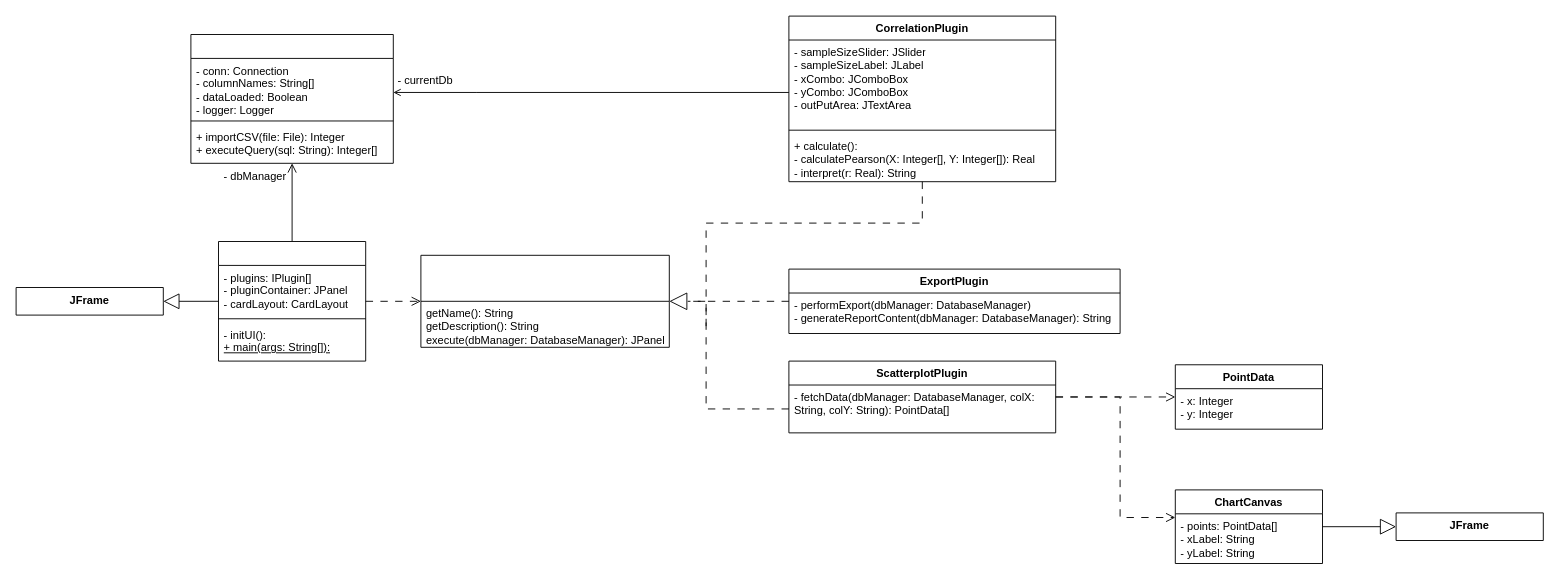
The diagram is 1559 pixels wide and 582 high, and some of its shapes have lost their labels. The box of each missing label's shape, as (x1, y1, x2, y2) in pixels:
DatabaseManager: (190, 34, 393, 163)
LabProjectApp: (218, 241, 366, 361)
« interface » IPlugin: (420, 254, 669, 347)
